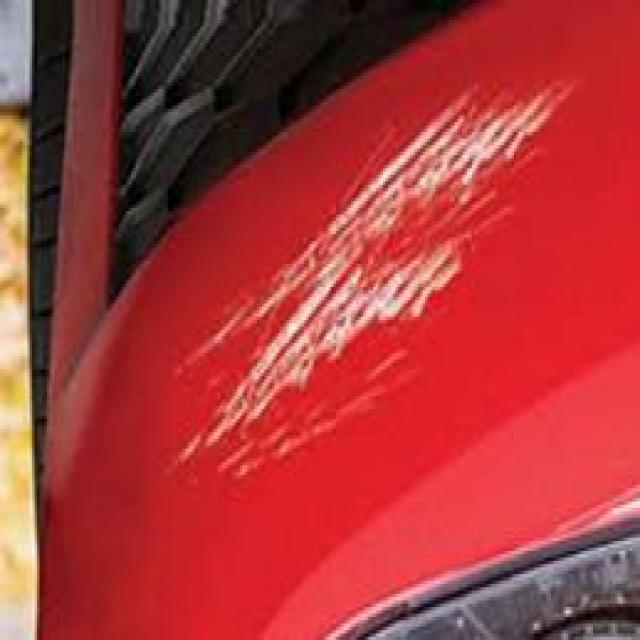scratch: (136, 48, 588, 536)
